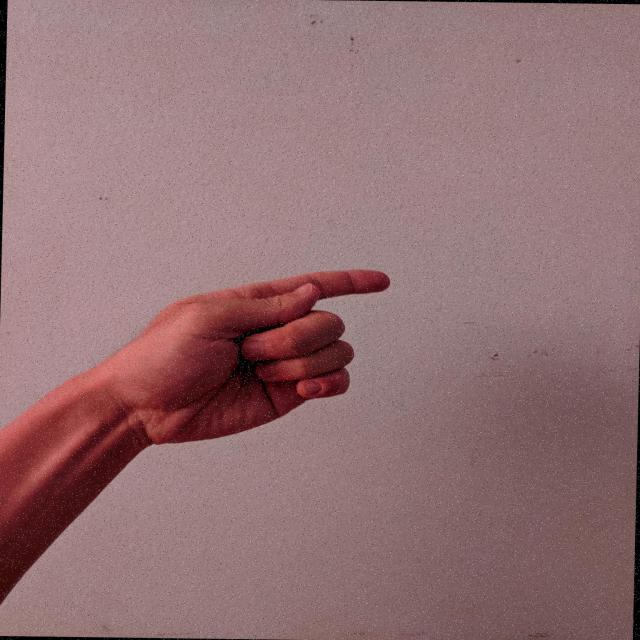G: (111, 261, 398, 457)
